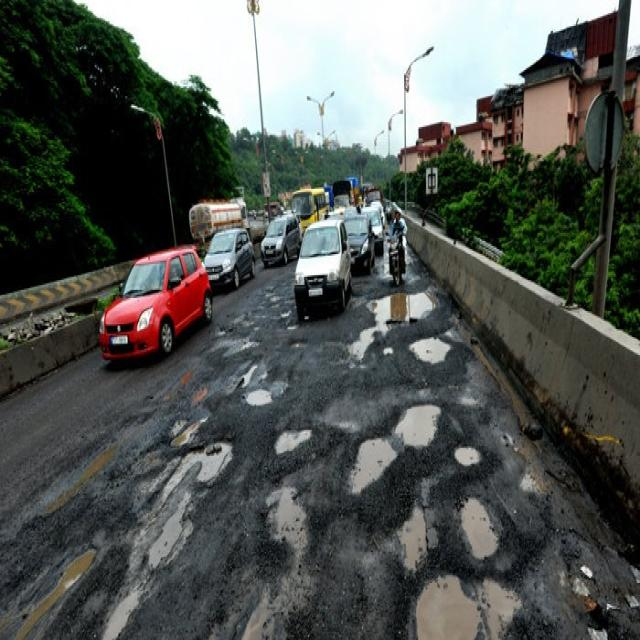Pothole: (11, 443, 232, 640), (349, 404, 441, 493), (415, 576, 515, 640), (399, 479, 436, 570), (461, 498, 497, 560), (409, 337, 452, 365)
